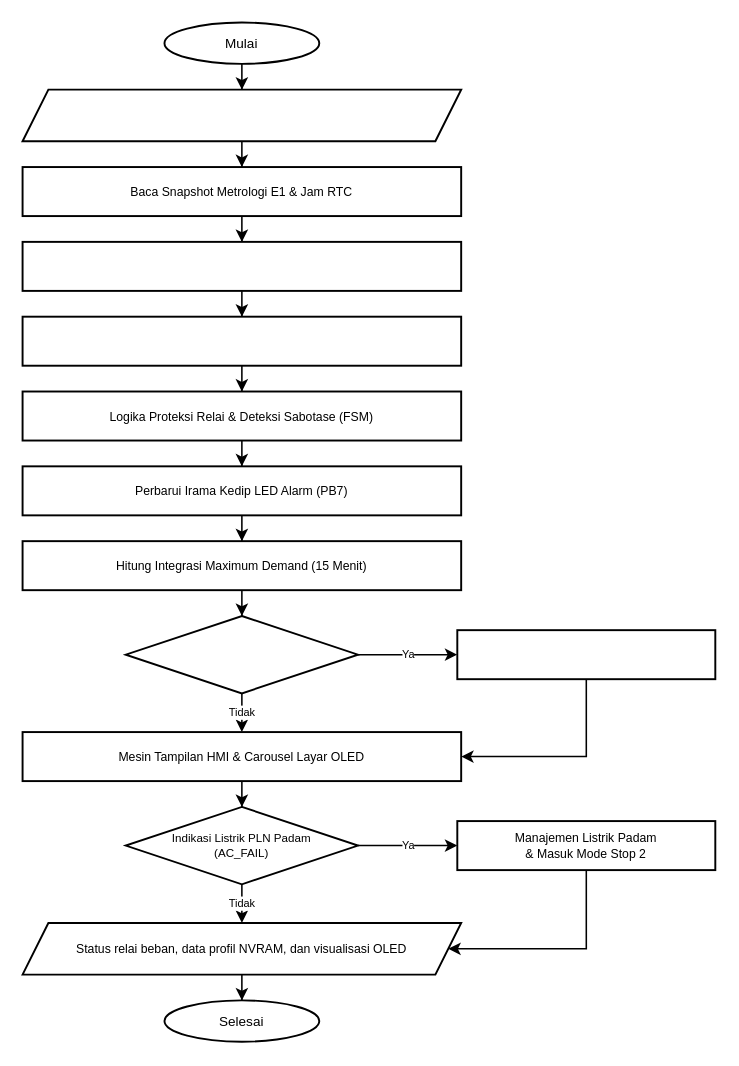
This 739x1066 diagram has some shape labels left out. Here are the shapes that lost their labels. From the top down, the centre of each, then its label:
the point at 241,115: Sinyal pengukuran metrologi E1, status RTC, dan telemetri baterai
the point at 241,265: Tentukan Tarif ToU (WBP / LWBP)
the point at 241,340: Ukur Baterai & Superkapasitor (ADC4 Tiap 5s)
the point at 241,654: Interval 15 Menit Tercapai
the point at 586,654: Tulis Record Profil Beban ke Flash NVRAM (SPI2)
